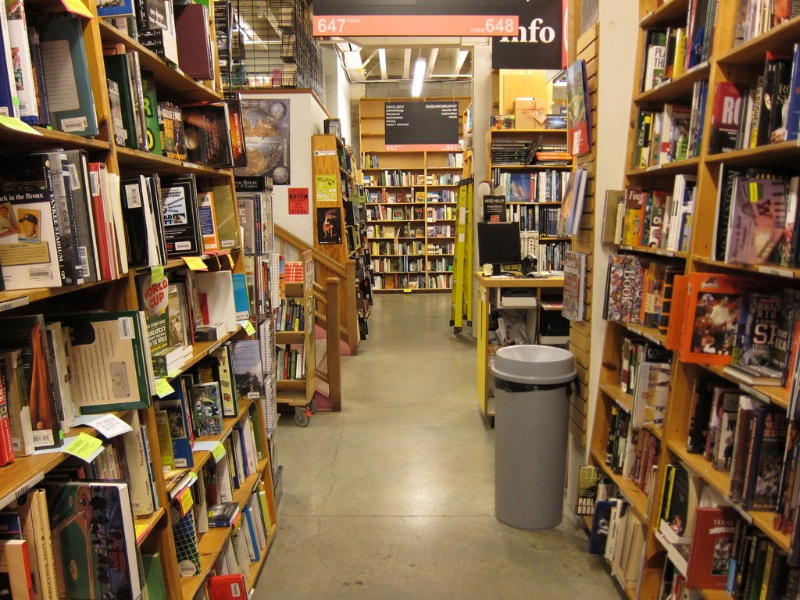book: (2, 4, 263, 593), (612, 14, 794, 589), (51, 311, 160, 413), (552, 248, 589, 324), (555, 167, 594, 239)
